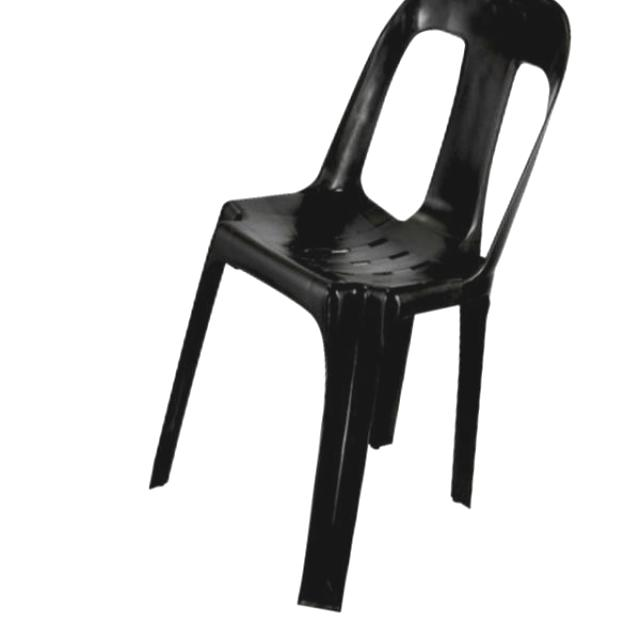Chair: (148, 2, 577, 614)
